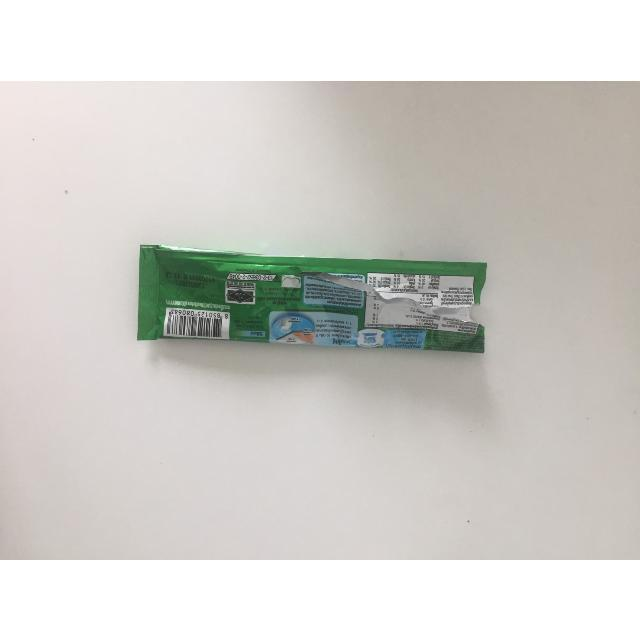Paquete de plastico: (136, 245, 486, 354)
